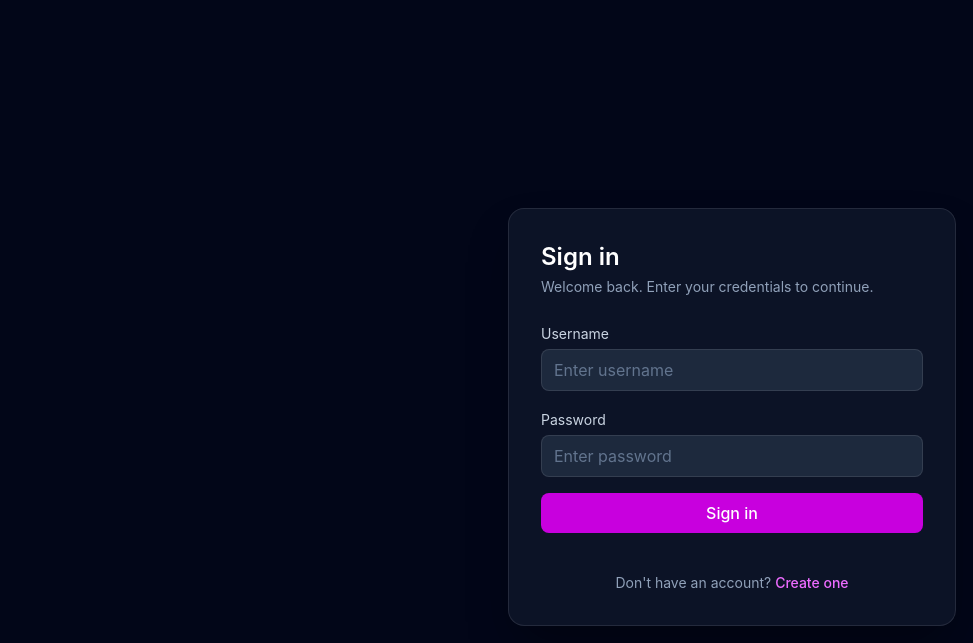
Test: LoginPage › validates redirect state and navigates to /profile
The width and height of the screenshot is (973, 643).
Click the button "Sign in" at (732, 513), box [541,493,923,533]
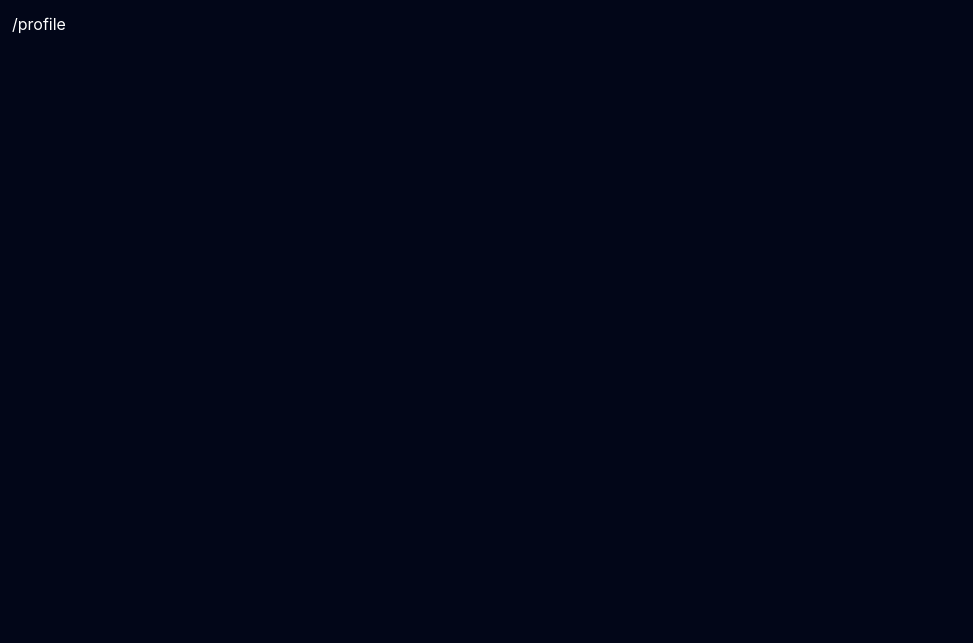
Check: the text with test id "location" reads "/profile", box [12,14,66,34]
